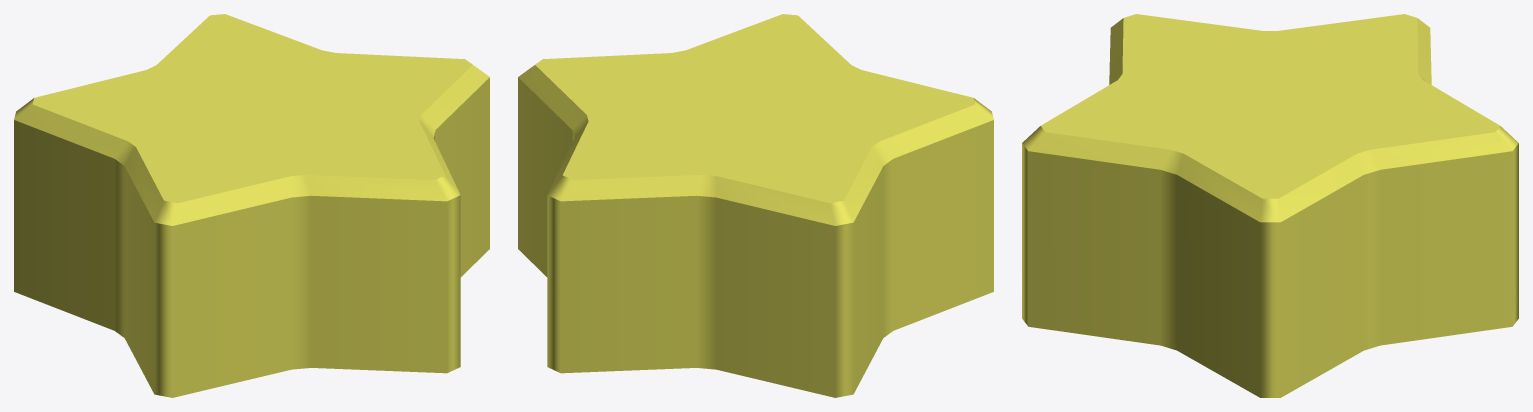
The model's file is BtnSta01.fbx.
3 views of the same model, side by side, from view 1: azimuth 30°, elevation 25°; view 2: azimuth 150°, elevation 25°; view 3: azimuth 270°, elevation 25° (orthographic). The views are drawn at different scales.
Parts seen in each view (by area): view 1: BtnSta01; view 2: BtnSta01; view 3: BtnSta01.
Boxes of the visible parts, x1,y1,x2,y2 form: BtnSta01: (14, 14, 489, 397); BtnSta01: (518, 14, 993, 397); BtnSta01: (1022, 14, 1518, 397).
Bounding box in the file's own units: 2.17 × 0.9715 × 2.29.
